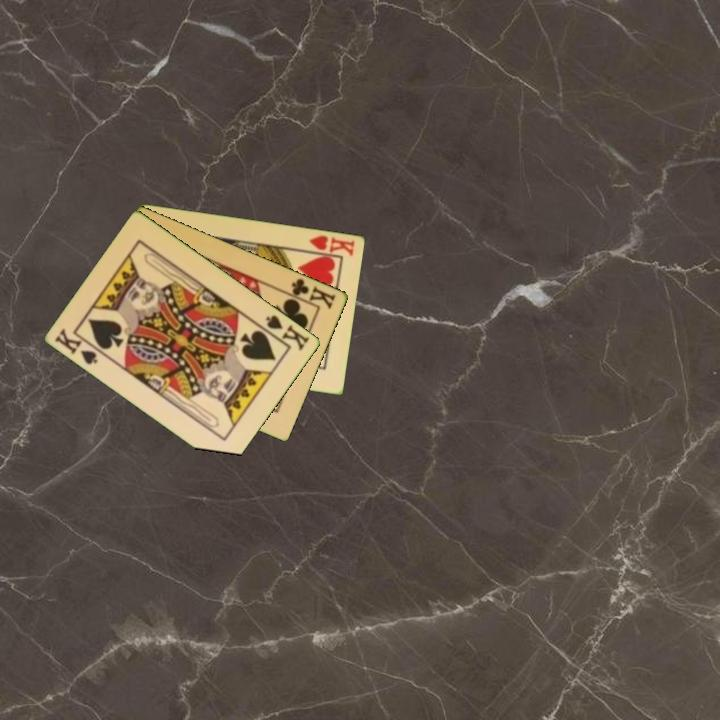Kc: (283, 275, 339, 312)
Kh: (301, 231, 358, 259)
Ks: (51, 324, 107, 368), (257, 311, 313, 353)
